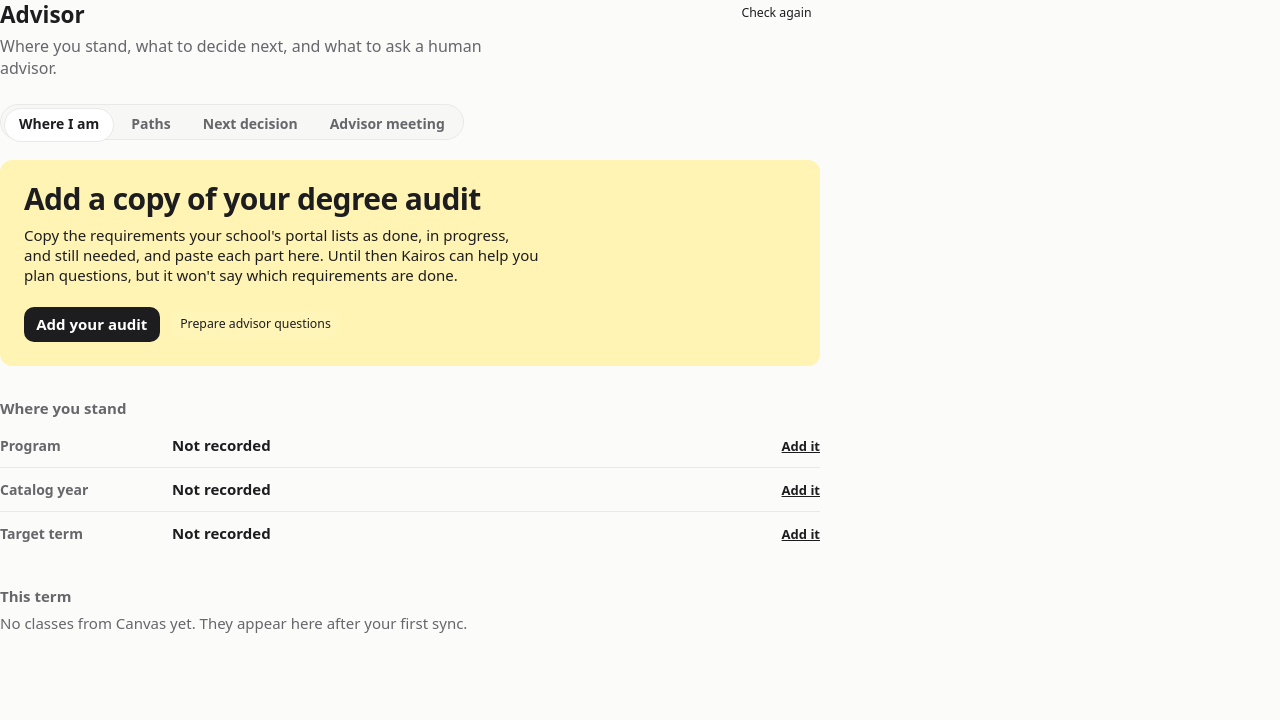
Test: AdvisorView writes › adds a dated audit from three pasted parts, then reads it back
The image size is (1280, 720).
Click the button "Add your audit": x=92, y=324 [24, 307, 160, 342]
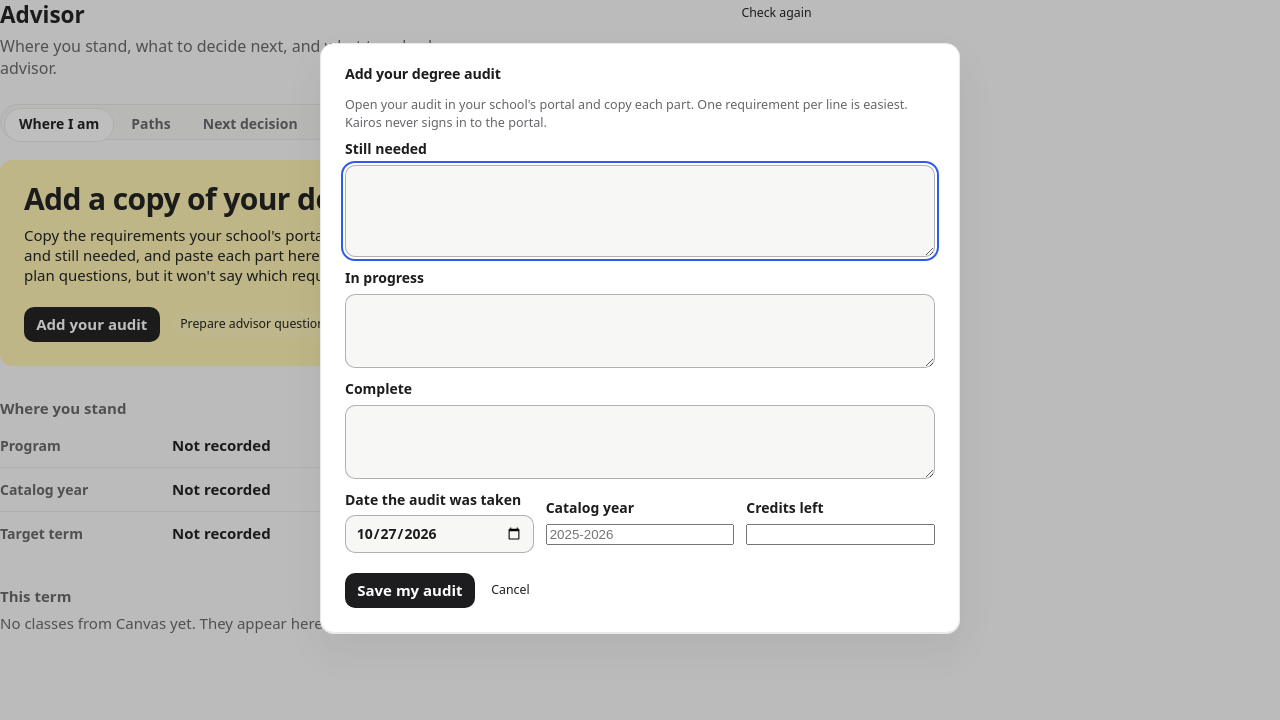
In the text box labelled "Still needed": x=640, y=211 [345, 165, 935, 258], type "ASEN senior design"
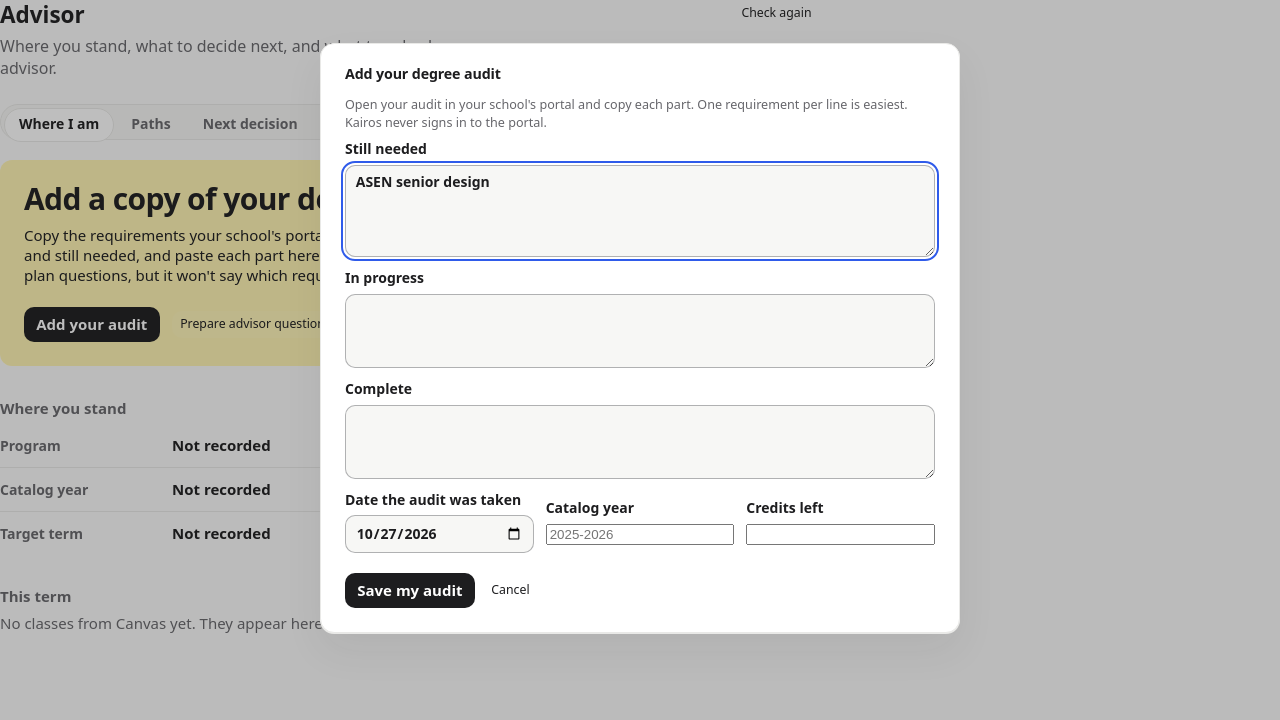
Click the button "Save my audit": x=410, y=591 [345, 574, 475, 608]
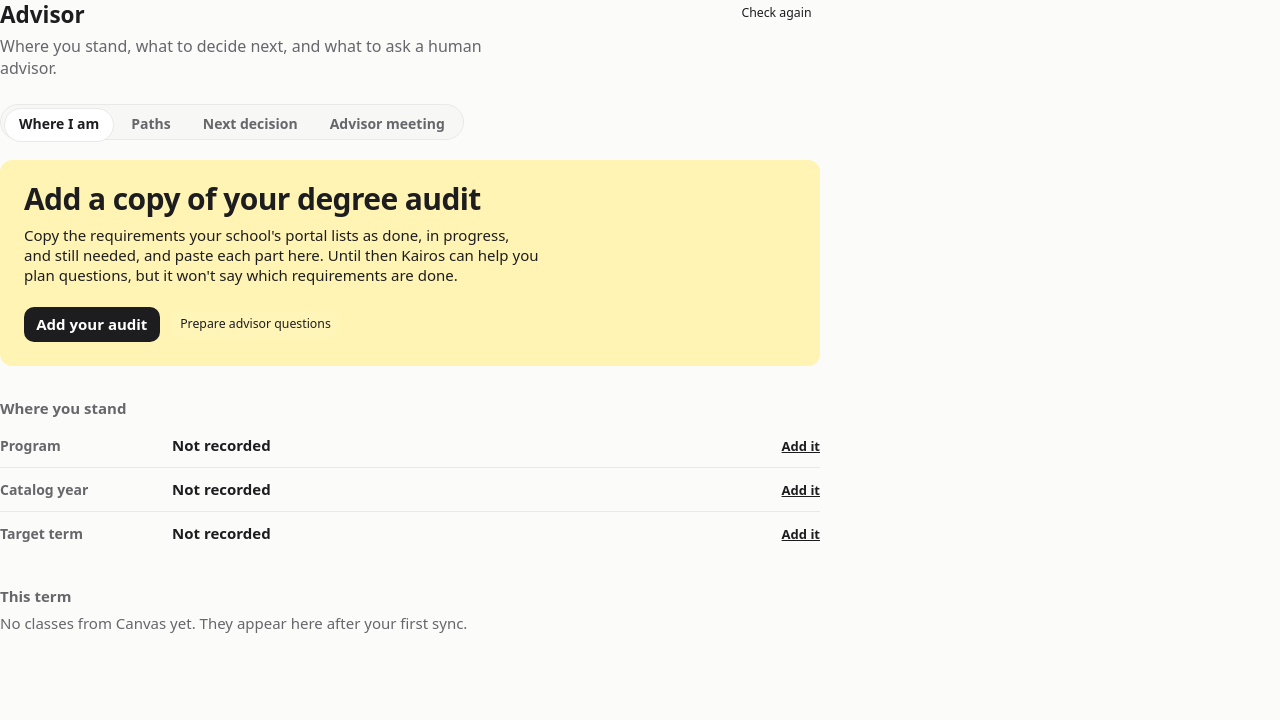
Check: the dialog is gone
